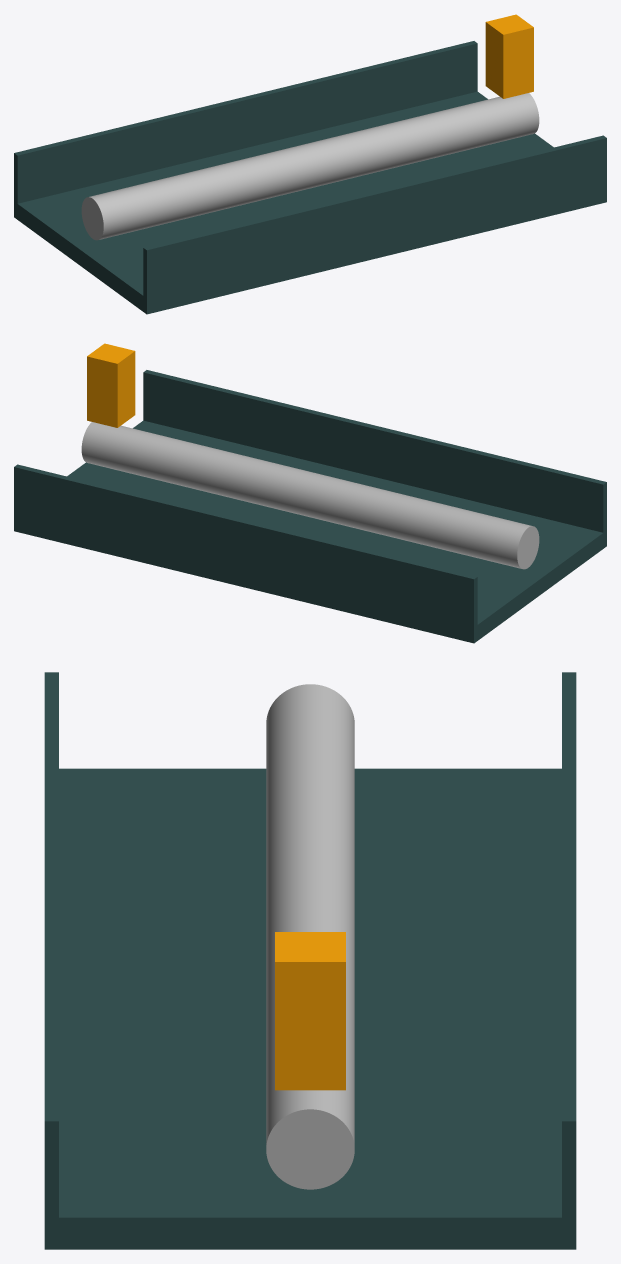
The model's file is sample.glb.
3 renders of one model, top to bottom at view 1: azimuth 30°, elevation 25°; view 2: azimuth 150°, elevation 25°; view 3: azimuth 270°, elevation 25°, orthographic. The views are drawn at different scales.
Bounding box in the file's own units: 0.6 × 0.17 × 0.3.
